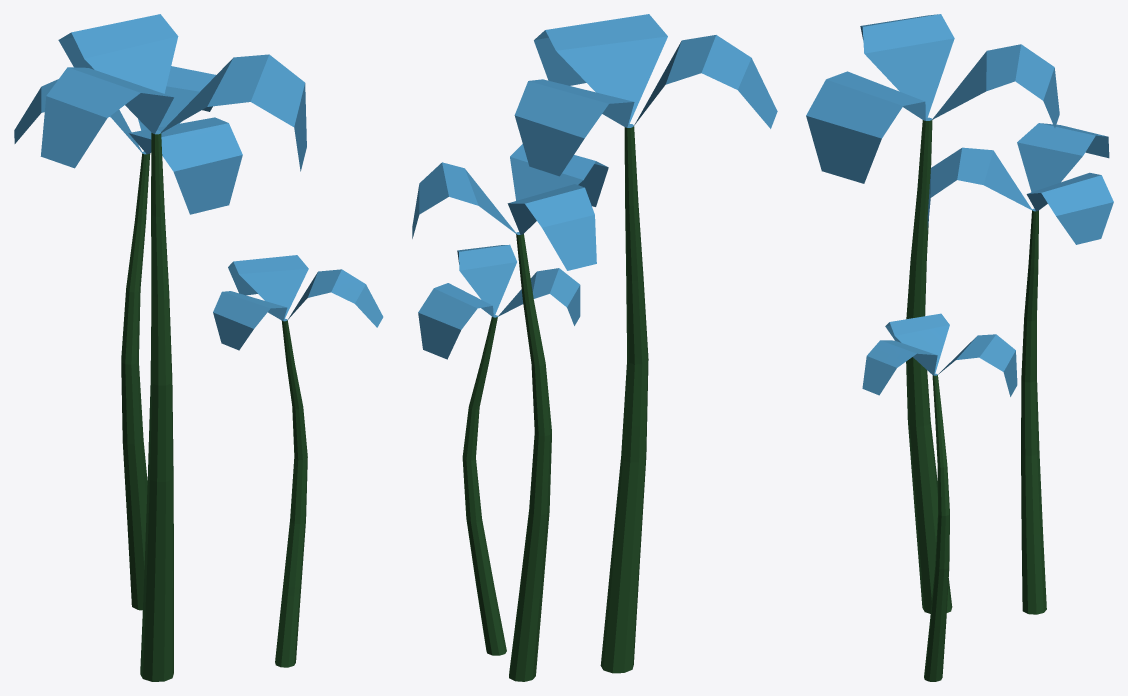
The model's file is Plant_2d.fbx.
The picture shows the model from 3 angles, left to right: view 1: azimuth 30°, elevation 25°; view 2: azimuth 150°, elevation 25°; view 3: azimuth 270°, elevation 25°; orthographic projection. The views are drawn at different scales.
Visible parts, largest first — view 1: Circle.002; view 2: Circle.002; view 3: Circle.002.
Boxes of the visible parts, x1,y1,x2,y2 form: Circle.002: (14,14,383,681); Circle.002: (412,14,777,681); Circle.002: (806,14,1113,681).
Bounding box in the file's own units: 79.42 × 148 × 72.38.
